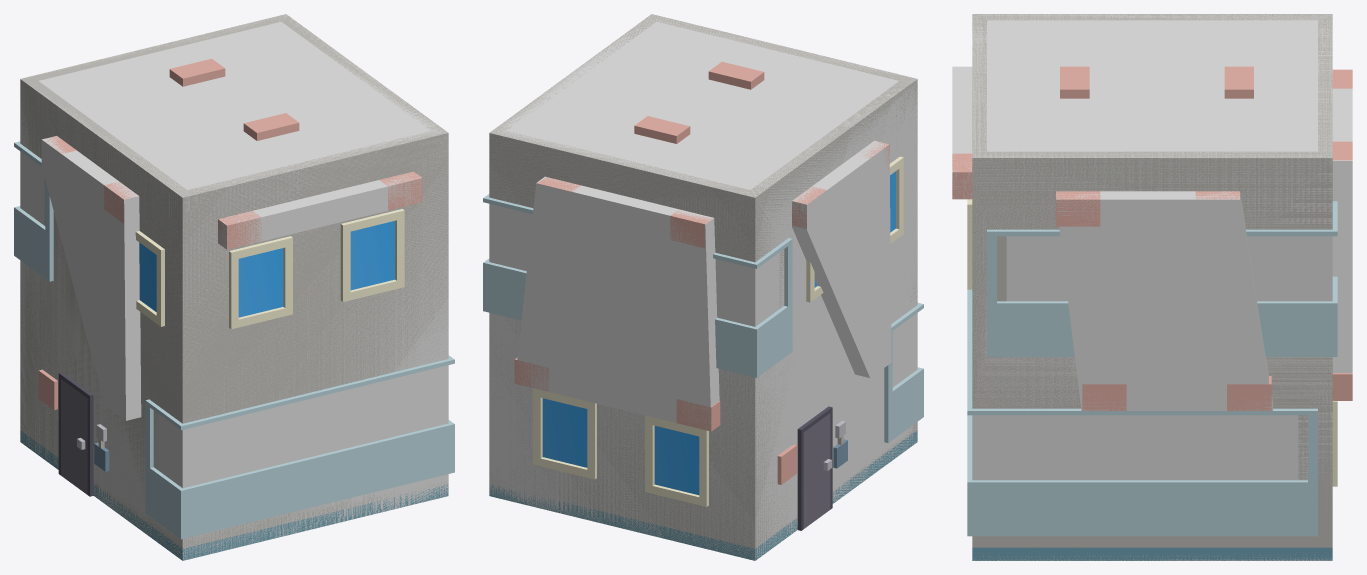
The model's file is Home12_B1_1_01.FBX.
3 renders of one model, left to right at view 1: azimuth 30°, elevation 25°; view 2: azimuth 150°, elevation 25°; view 3: azimuth 270°, elevation 25°, orthographic. The views are drawn at different scales.
Parts seen in each view (by area): view 1: Home12_B1_Damage_1_01, Home12_B1_Live_1_01; view 2: Home12_B1_Damage_1_01, Home12_B1_Live_1_01; view 3: Home12_B1_Damage_1_01, Home12_B1_Live_1_01.
Part boxes in pixels (x1=…): Home12_B1_Damage_1_01: x1=20, y1=14, x2=448, y2=560; Home12_B1_Live_1_01: x1=14, y1=14, x2=454, y2=560; Home12_B1_Damage_1_01: x1=489, y1=15, x2=917, y2=560; Home12_B1_Live_1_01: x1=483, y1=14, x2=923, y2=560; Home12_B1_Damage_1_01: x1=952, y1=14, x2=1352, y2=560; Home12_B1_Live_1_01: x1=952, y1=14, x2=1352, y2=560.
Bounding box in the file's own units: 5.86 × 7.01 × 6.17.
